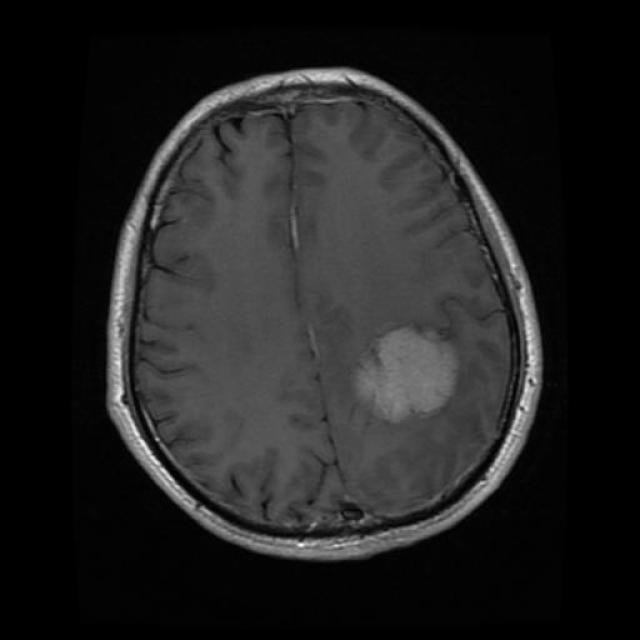meningioma: (358, 324, 459, 425)
